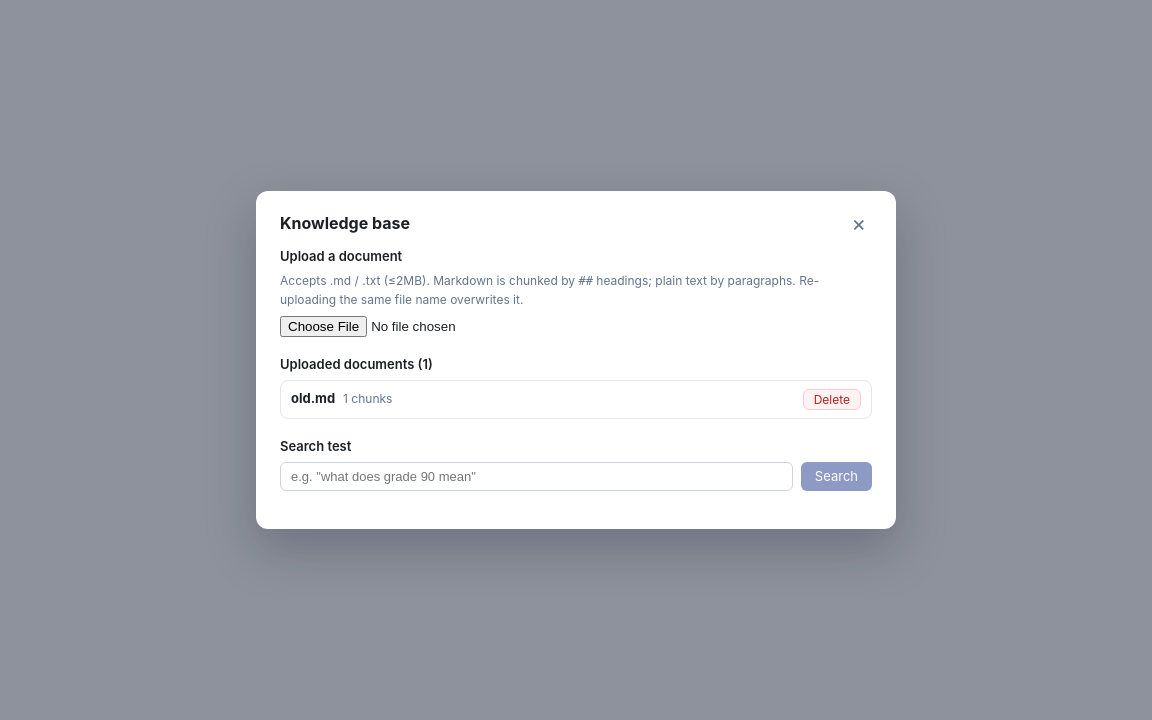
Test: KnowledgePanel › deletes a document after confirmation
Click the button "Delete": (832,399) [803,389,861,410]
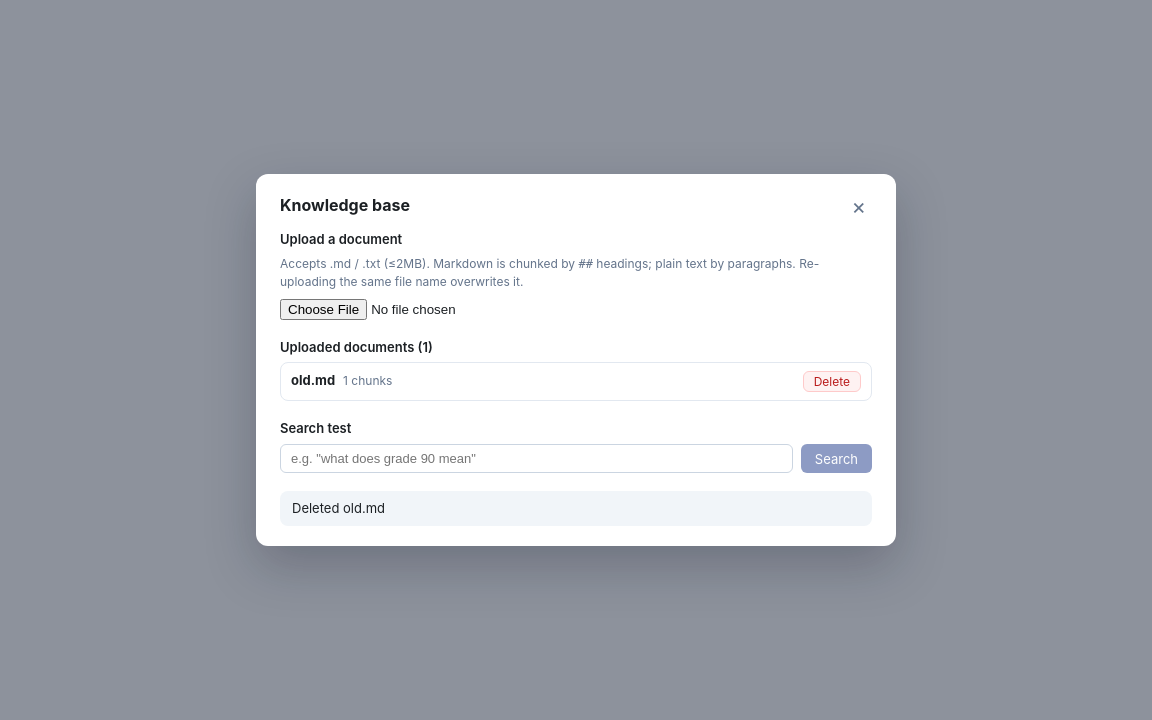
Result: the text "Deleted old.md" is shown at [280,491,872,526]
